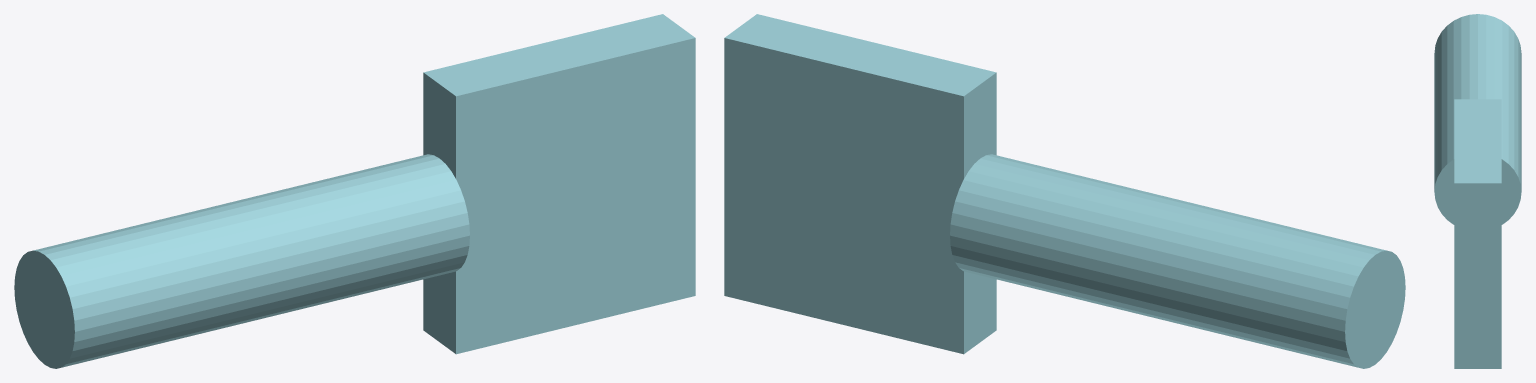
File: cylinder_brush_v11004.obj
3 renders of one model, left to right at view 1: azimuth 30°, elevation 25°; view 2: azimuth 150°, elevation 25°; view 3: azimuth 270°, elevation 25°, orthographic. The views are drawn at different scales.
Size of the model in its own units: 0.2717 by 0.1056 by 0.0449.
1 material, 1 textured.
